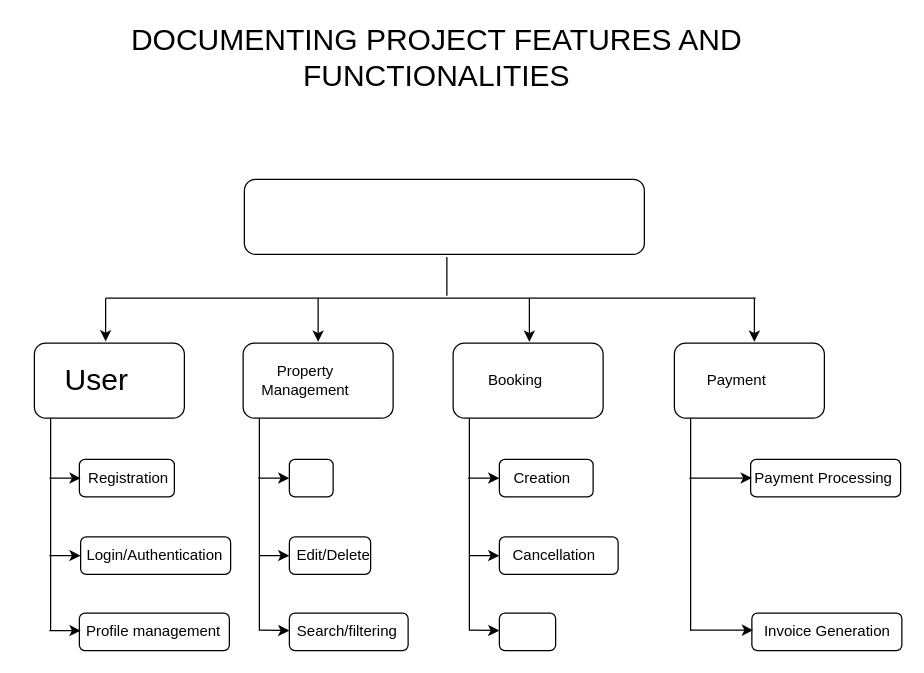
The diagram is 924 pixels wide and 673 high, and some of its shapes have lost their labels. Here are the shapes that lost their labels. From the top down, the box of each, then its label:
(243, 178, 644, 254): Backend Features and functionalities
(288, 458, 333, 497): Add
(498, 612, 556, 651): Status
